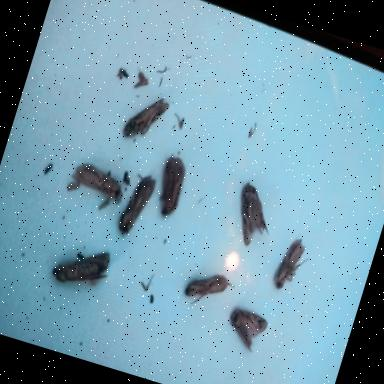pbw: (223, 176, 285, 255), (47, 235, 116, 296), (64, 155, 130, 208), (176, 262, 236, 320), (267, 232, 316, 298), (119, 88, 172, 148), (114, 170, 158, 242), (150, 149, 193, 222), (221, 303, 272, 356)
